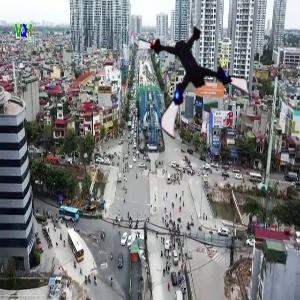drone: (142, 22, 253, 133)
